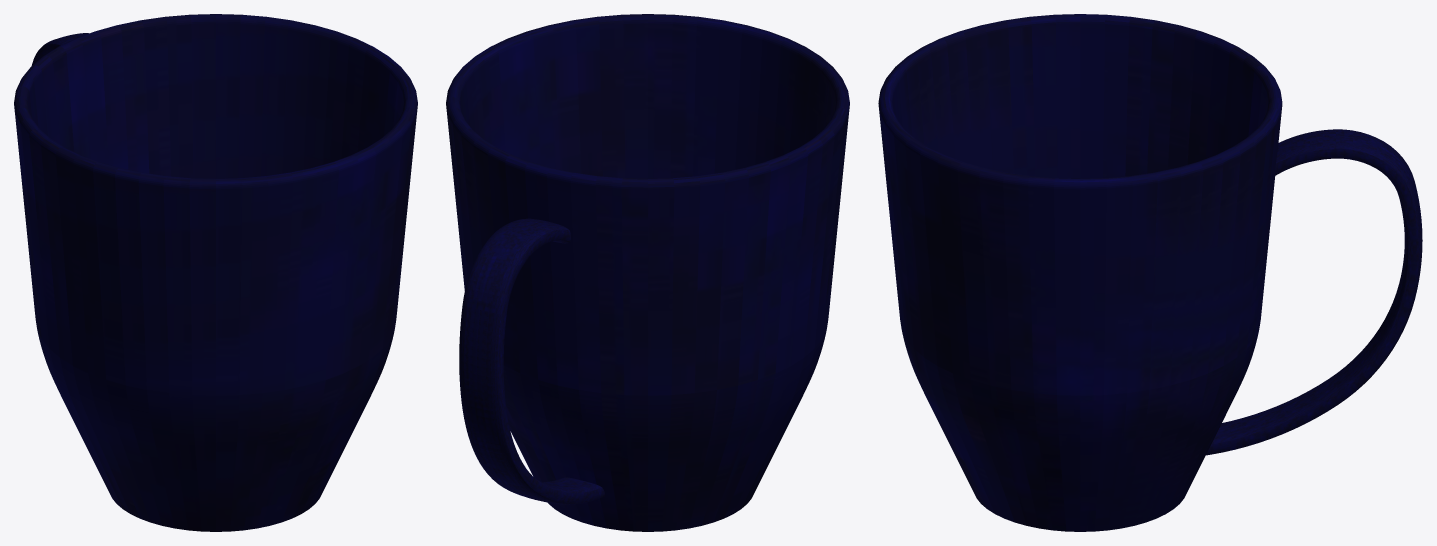
The picture shows the model from 3 angles, left to right: view 1: azimuth 30°, elevation 25°; view 2: azimuth 150°, elevation 25°; view 3: azimuth 270°, elevation 25°; orthographic projection.
Bounding box in the file's own units: 0.5031 × 0.5366 × 0.6775.
Materials: 1 (1 with a texture image).
